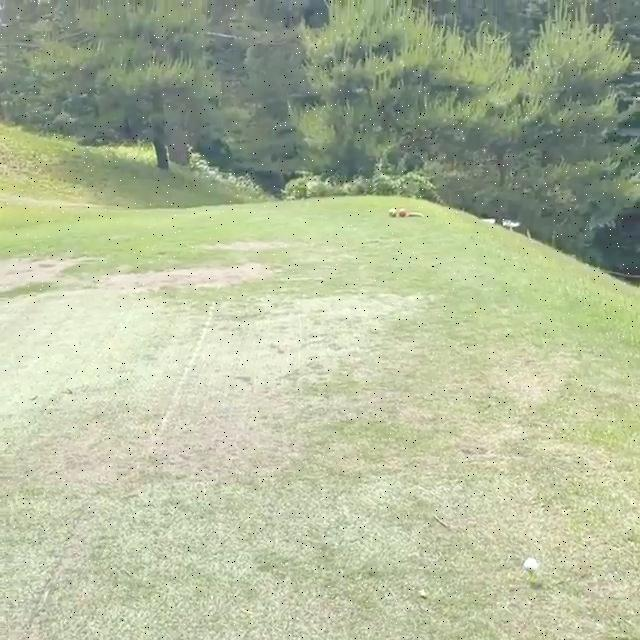golf ball: (524, 557, 538, 571)
